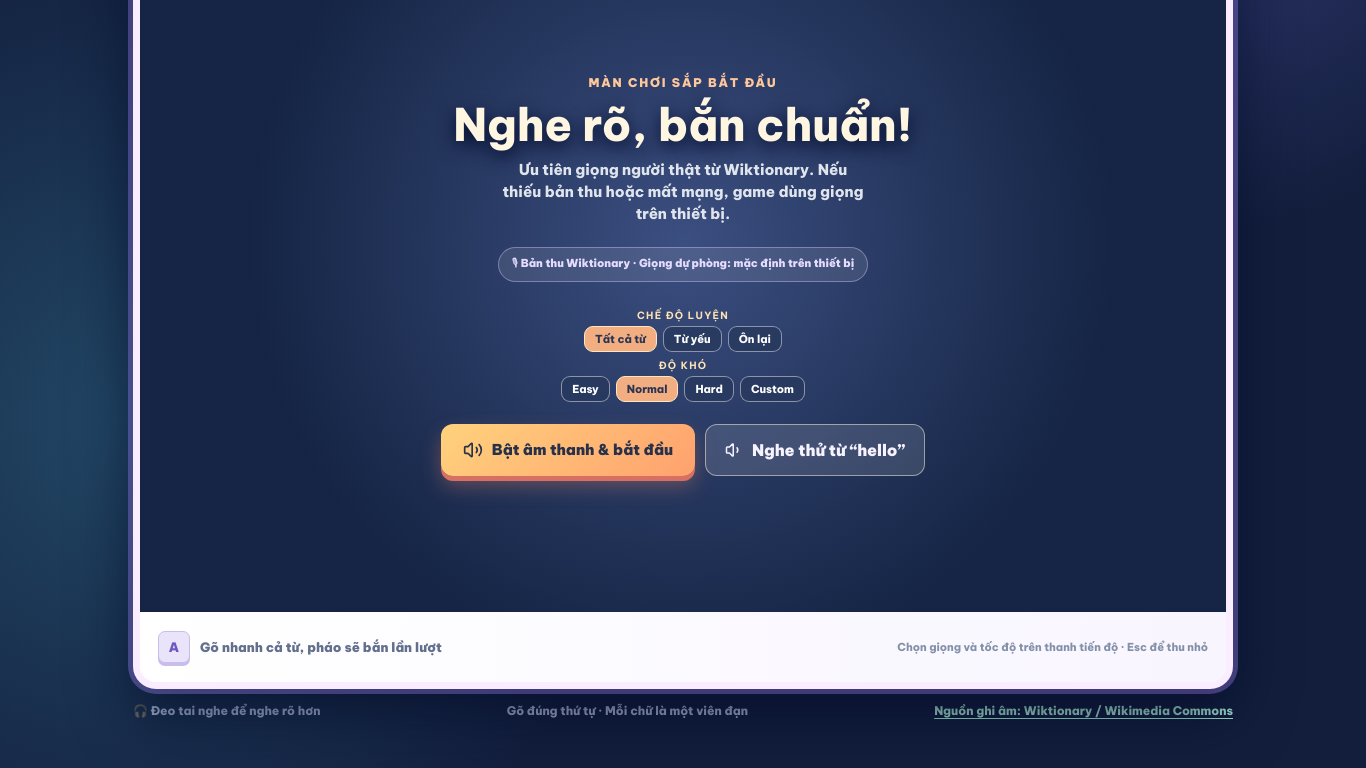
offers a review game for words completed with mistakes
The width and height of the screenshot is (1366, 768).
(page scrolled)
Click the button "Bật âm thanh & bắt đầu": (568, 450) top-left (441, 424), bottom-right (695, 476)
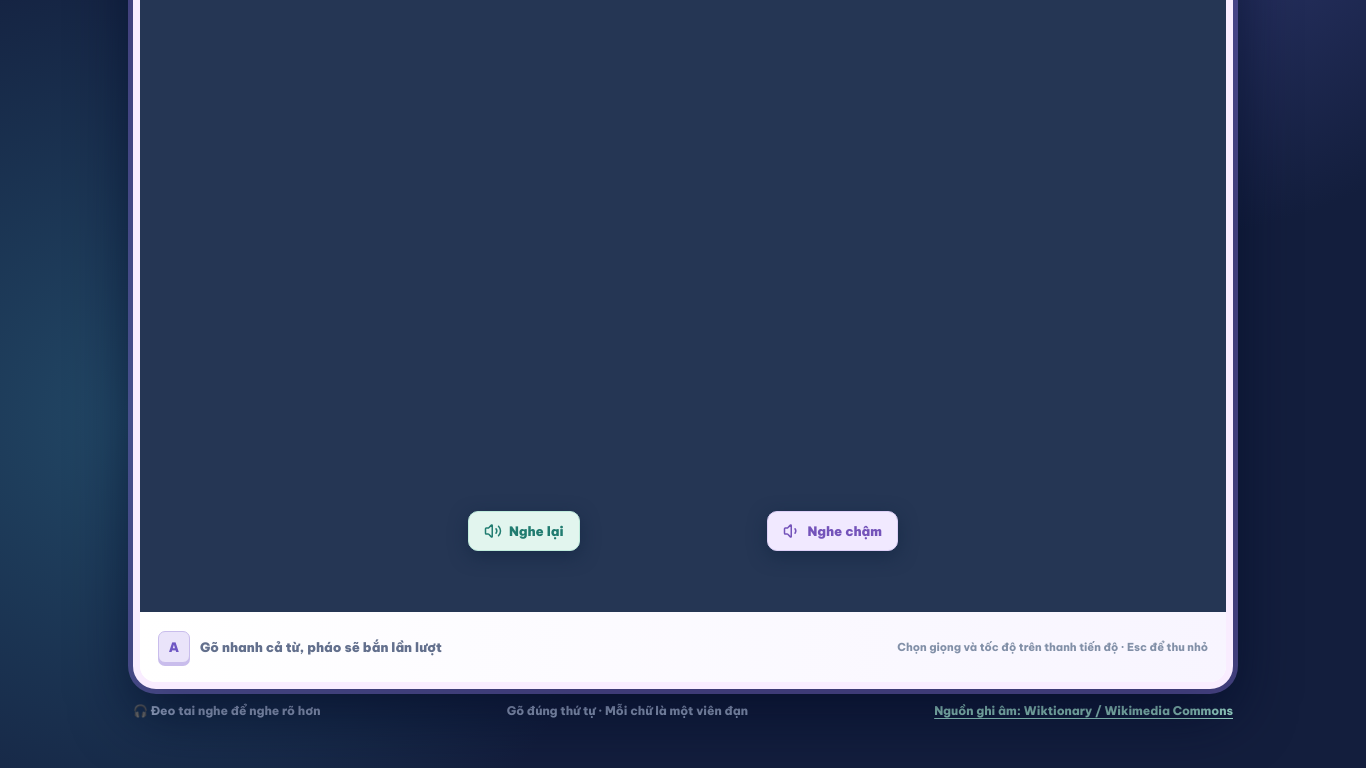
Press x
Press a
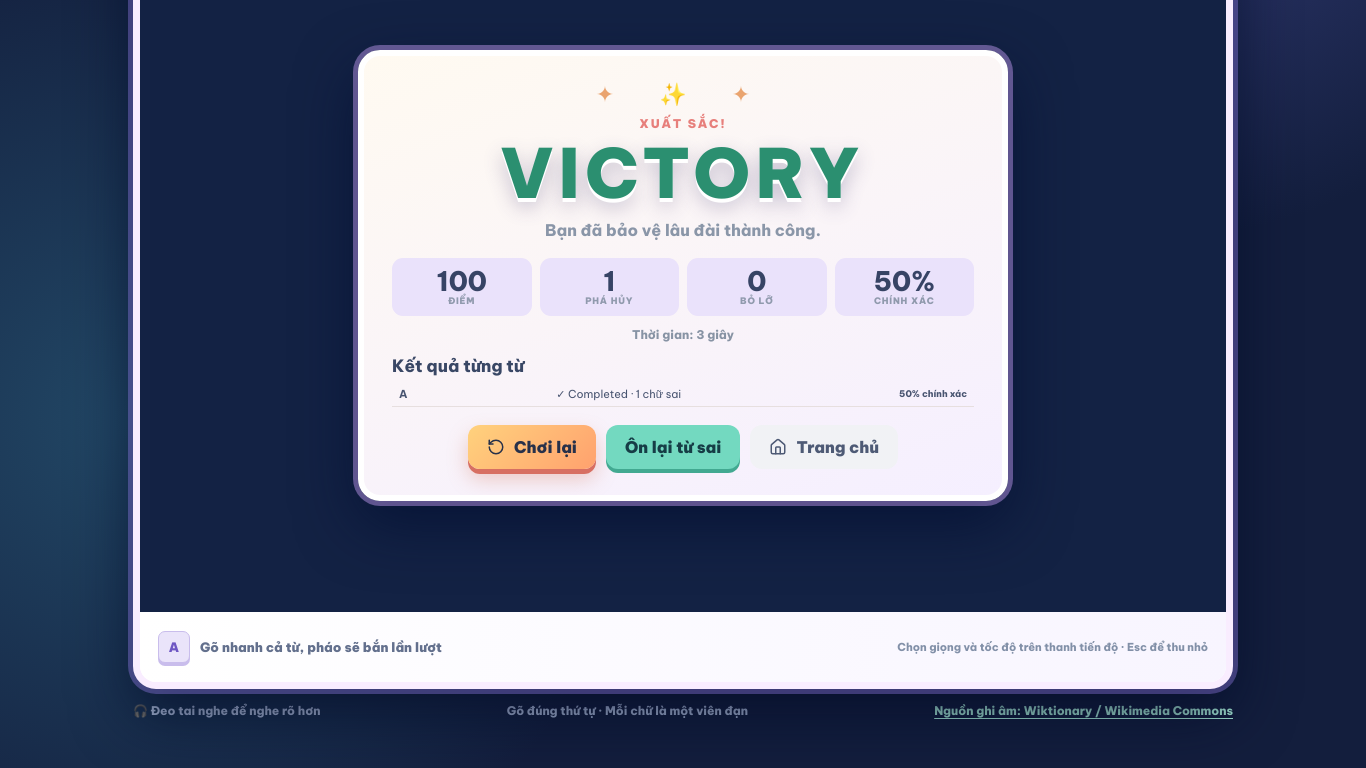
Expected: the text "✓ Completed · 1 chữ sai" is shown, top-left (556, 387), bottom-right (681, 401)
Click the button "Ôn lại từ sai": (673, 447) top-left (606, 425), bottom-right (740, 469)
(page scrolled)
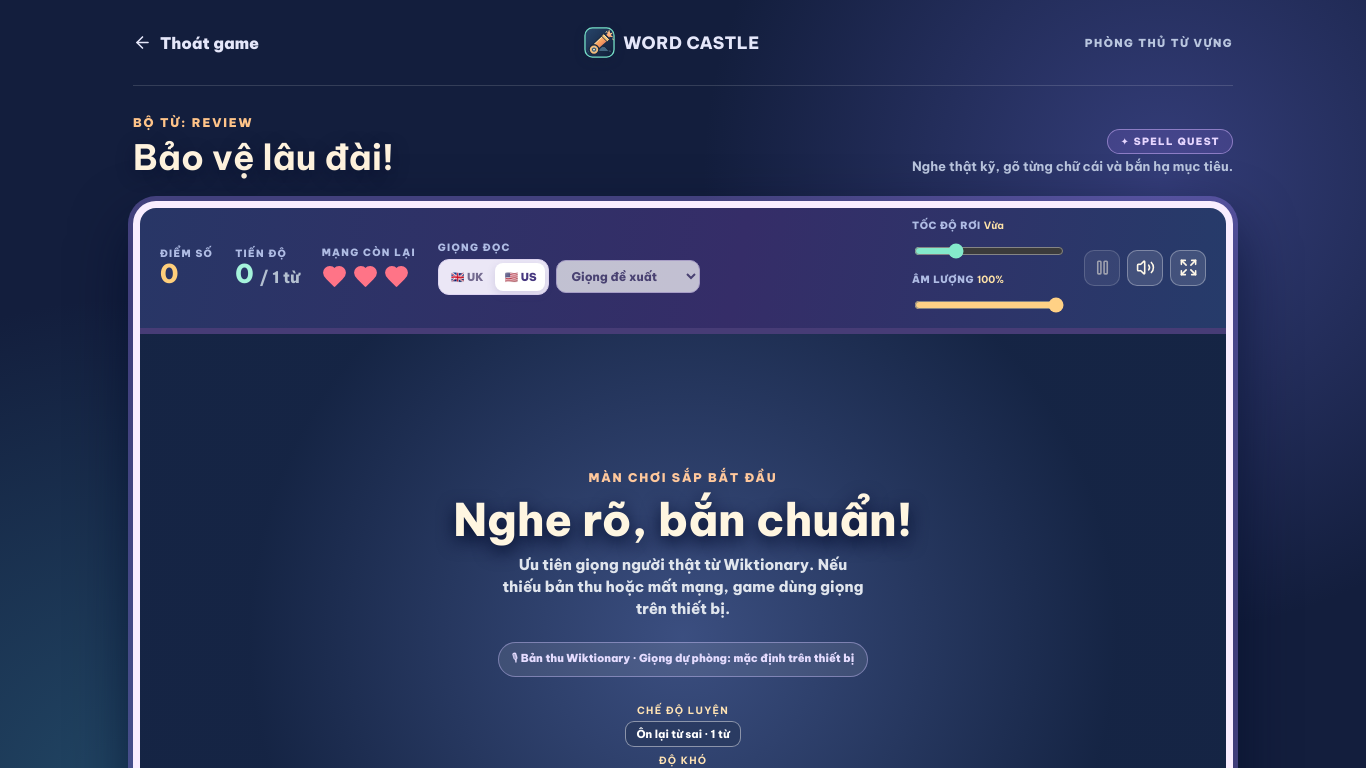
Expected: the text "Ôn lại từ sai · 1 từ" is shown, top-left (625, 720), bottom-right (740, 746)
Expected: the element with class "hud-progress" shows "0 / 1 từ", top-left (235, 247), bottom-right (300, 288)
